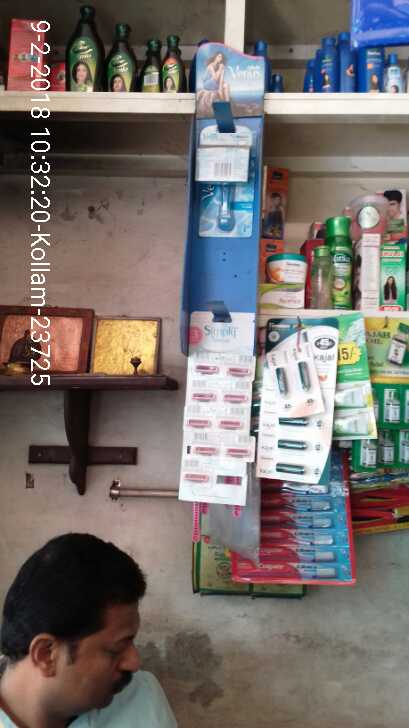reject: (111, 233, 151, 281)
